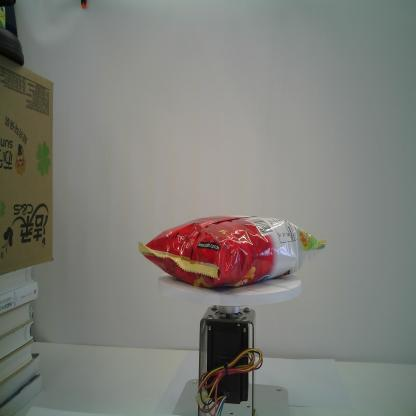Puffed Food: (137, 216, 327, 289)
